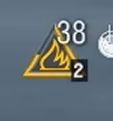2fire: (20, 47, 89, 84)
